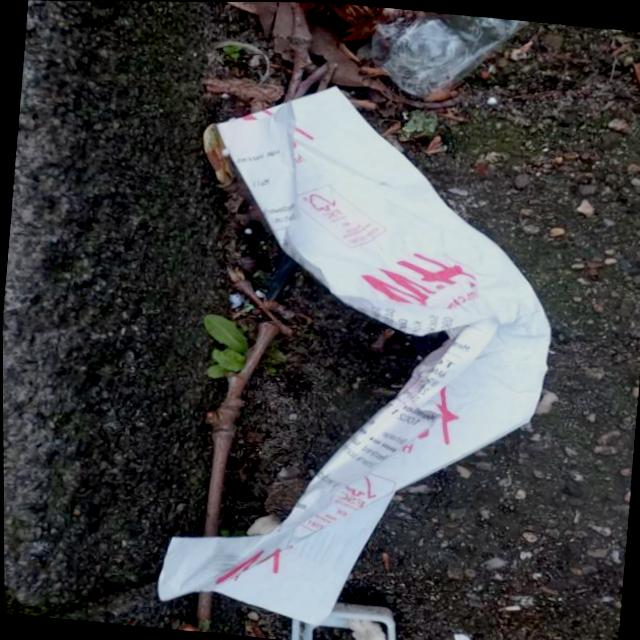Paper: (146, 69, 575, 640)
Plastic: (363, 6, 528, 110)
